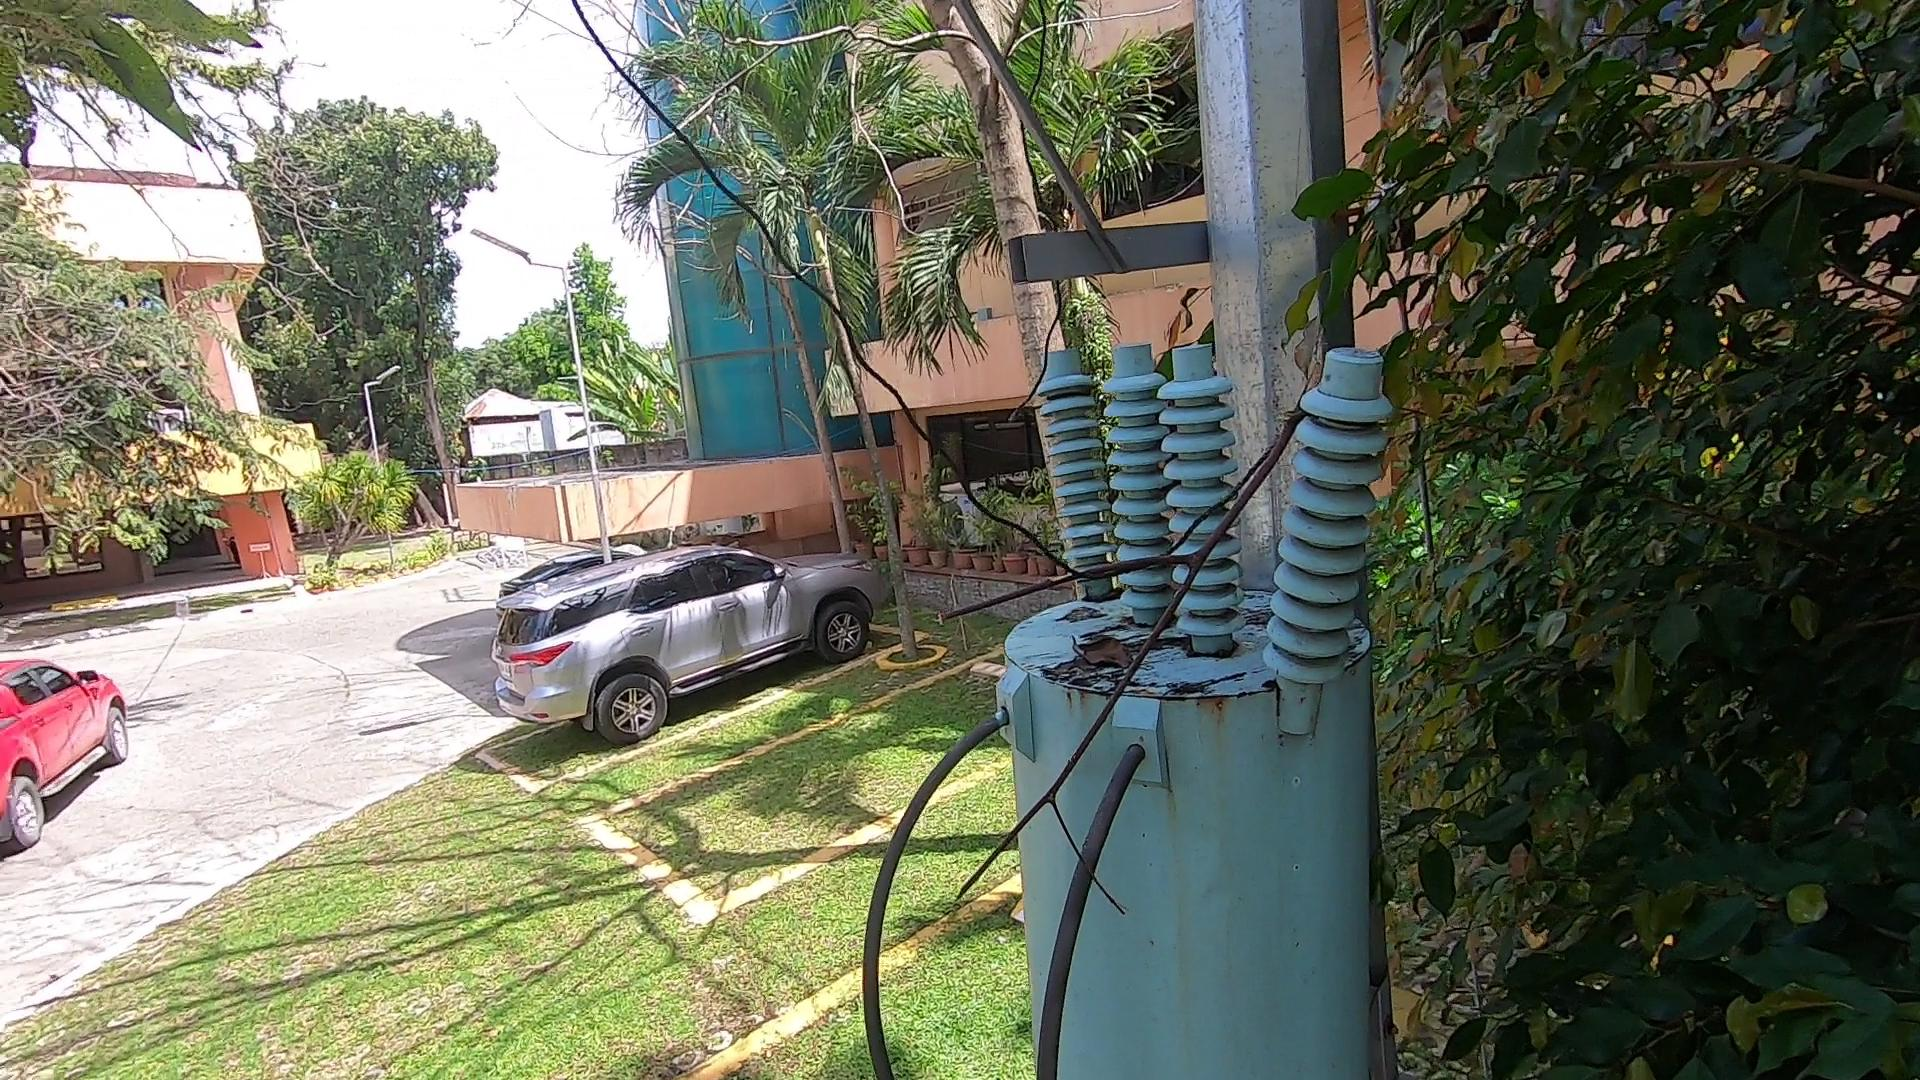leaf: (1065, 621, 1149, 675)
tree branch: (919, 386, 1323, 927)
